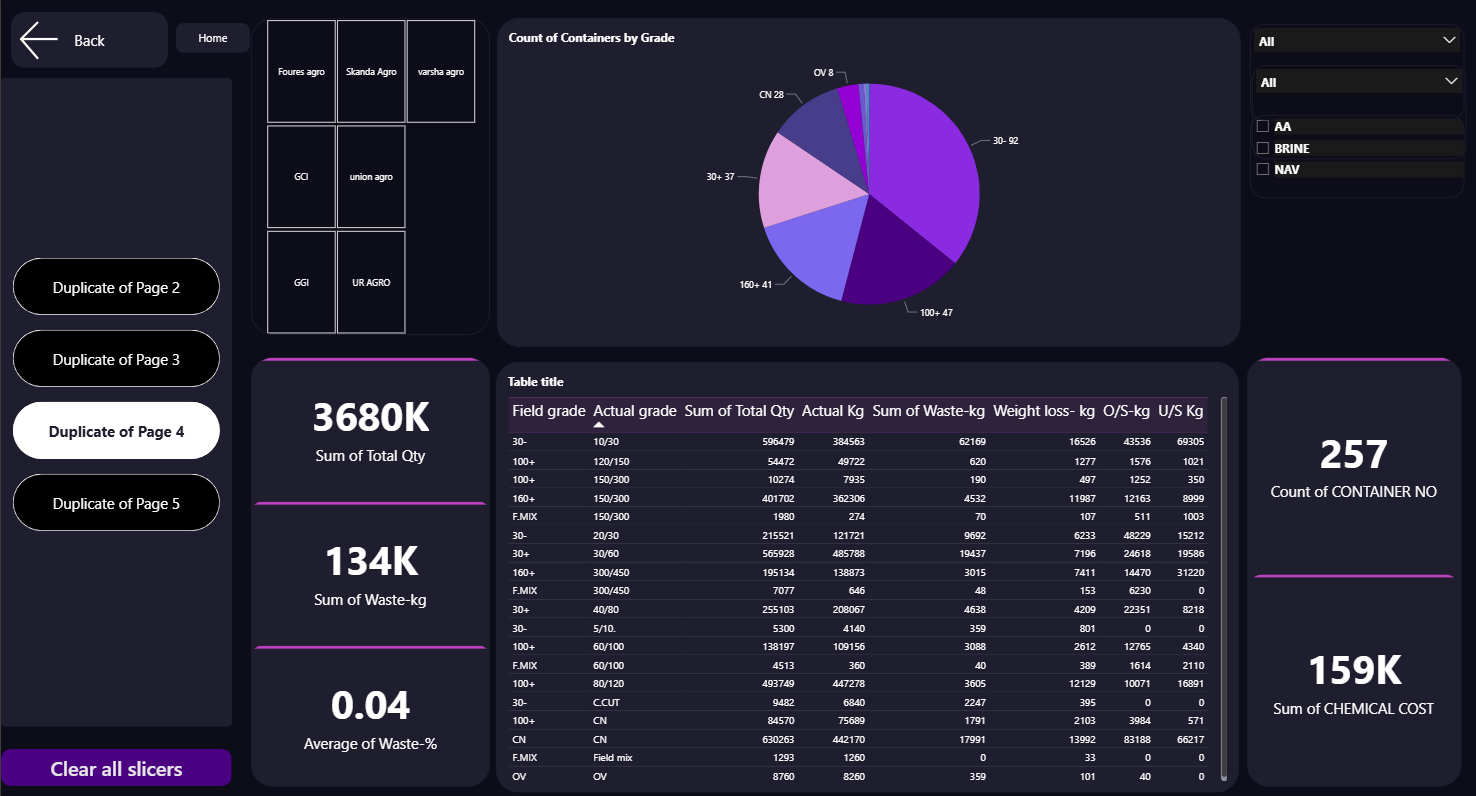

The page's visual inventory and layout, read from the dashboard file:
{"tool":"powerbi","page":{"name":"Duplicate of Page 4","canvas":[2000,1080],"ordinal":3},"visuals":[{"type":"group","id":"g1","title":"Group 1","box":[336.9,27,1637.5,1043.2],"z":0},{"type":"slicer","fields":{"Values":["PROCESS LOSS.Suppliers"]},"box":[337,27,322.4,426.7],"z":0,"group":"g1"},{"type":"shape","box":[0,107.7,311.1,874],"z":1000},{"type":"tableEx","fields":{"Values":["PROCESS LOSS.Field grade","PROCESS LOSS.Actual grade","Sum(PROCESS LOSS.Total Qty)","Sum(PROCESS LOSS.Actual kg)","Sum(PROCESS LOSS.Waste-kg)","Sum(PROCESS LOSS.weight loss- kg)","Sum(PROCESS LOSS.O/S-kg)","Sum(PROCESS LOSS.U/S)"]},"box":[667.2,490.7,1001,579.5],"z":1000,"group":"g1"},{"type":"pieChart","title":"Count of Containers by Grade","fields":{"Category":["Container Details.GRADE"],"Y":["CountNonNull(Container Details.CUSTOMER)"]},"box":[668.1,27,1002.3,442.5],"z":2000,"group":"g1"},{"type":"actionButton","box":[235.7,33.7,99.7,40.4],"z":2000},{"type":"actionButton","box":[13.5,18.9,211.6,75.5],"z":3000},{"type":"slicer","fields":{"Values":["Container Details.CUSTOMER"]},"box":[1685.4,89.8,288.9,126.9],"z":3000,"group":"g1"},{"type":"slicer","fields":{"Values":["Container Details.MEDIA"]},"box":[1682.6,157.9,288.9,112.2],"z":4000,"group":"g1"},{"type":"pageNavigator","box":[0,333.8,310.8,400],"z":4000},{"type":"slicer","fields":{"Values":["Container Details.DATE"]},"box":[1682.6,35,288.9,129.6],"z":5000,"group":"g1"},{"type":"actionButton","box":[0,1012.7,311.1,49.8],"z":5000},{"type":"cardVisual","fields":{"Data":["Sum(PROCESS LOSS.Total Qty)","Sum(PROCESS LOSS.Waste-kg)","Avg(PROCESS LOSS.Waste-%)"]},"box":[336.9,483.8,322.4,578.8],"z":6000,"group":"g1"},{"type":"cardVisual","fields":{"Data":["CountNonNull(Container Details.CONTAINER NO)","Sum(Container Details.CHEMICAL COST)"]},"box":[1679.2,483.9,288.5,579.5],"z":7000,"group":"g1"}]}

Visuals, with their boxes on the page's 2000x1080 design canvas (x1, y1, x2, y2). These are canvas units, not pixel positions in the 1476x796 screenshot, which may show the page scaled, cropped or inside an application window:
"Group 1" group: rect(337, 27, 1974, 1070)
slicer - PROCESS LOSS.Suppliers: rect(337, 27, 659, 454)
shape: rect(0, 108, 311, 982)
tableEx - PROCESS LOSS.Field grade x PROCESS LOSS.Actual grade: rect(667, 491, 1668, 1070)
"Count of Containers by Grade" pieChart: rect(668, 27, 1670, 470)
actionButton: rect(236, 34, 335, 74)
actionButton: rect(14, 19, 225, 94)
slicer - Container Details.CUSTOMER: rect(1685, 90, 1974, 217)
slicer - Container Details.MEDIA: rect(1683, 158, 1972, 270)
pageNavigator: rect(0, 334, 311, 734)
slicer - Container Details.DATE: rect(1683, 35, 1972, 165)
actionButton: rect(0, 1013, 311, 1062)
cardVisual - Sum(PROCESS LOSS.Total Qty) x Sum(PROCESS LOSS.Waste-kg): rect(337, 484, 659, 1063)
cardVisual - CountNonNull(Container Details.CONTAINER NO) x Sum(Container Details.CHEMICAL COST): rect(1679, 484, 1968, 1063)
